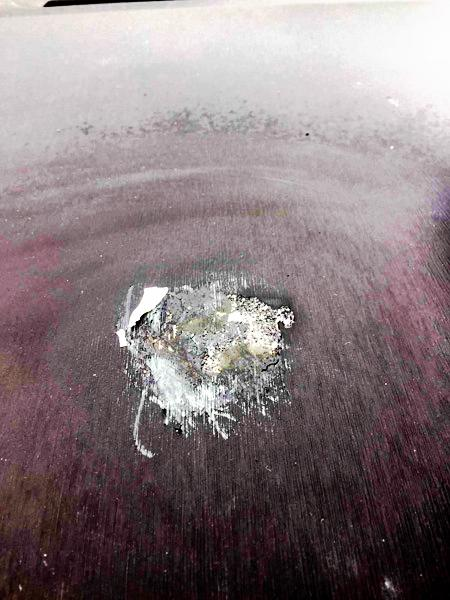Bird Poop: (116, 281, 294, 457)
